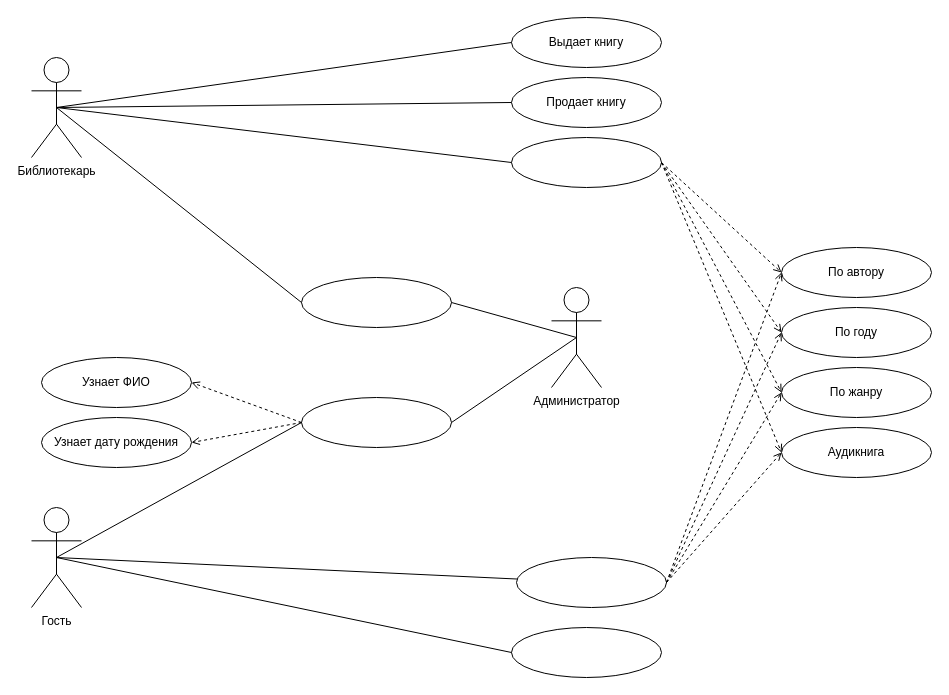
This 949x695 diagram has some shape labels left out. The shapes that lost their labels are listed below. From the top down, each one's box as (x1, y1, x2, y2) in pixels, then its label:
(510, 136, 662, 188): Группирует книги
(300, 276, 452, 328): Принимает новые книги
(300, 396, 452, 448): Регистрация
(516, 556, 666, 608): Выбирает книгу
(510, 626, 662, 678): Покупает книгу
